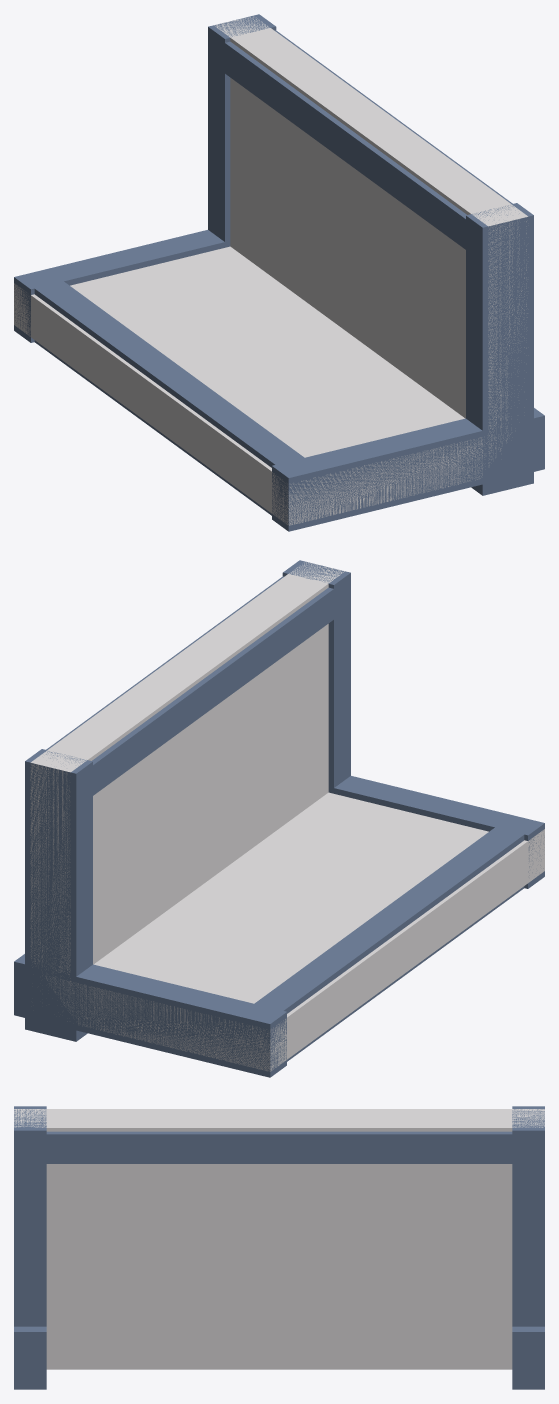
File: 03_wall_outer_corner.glb
3 renders of one model, top to bottom at view 1: azimuth 30°, elevation 25°; view 2: azimuth 150°, elevation 25°; view 3: azimuth 270°, elevation 25°, orthographic. The views are drawn at different scales.
Visible parts, largest first — view 1: part_1, part_2, part_3, part_4, part_8, part_7, part_6, part_5; view 2: part_2, part_1, part_5, part_6, part_8, part_7, part_4, part_3; view 3: part_2, part_8, part_6, part_4, part_3, part_5, part_1.
Part boxes in pixels (<box>): part_1: <box>14,246,510,525</box>; part_2: <box>214,16,528,463</box>; part_3: <box>272,408,544,531</box>; part_4: <box>466,203,533,495</box>; part_8: <box>208,30,533,261</box>; part_7: <box>18,269,319,515</box>; part_6: <box>208,14,276,246</box>; part_5: <box>14,230,230,342</box>; part_2: <box>30,562,344,980</box>; part_1: <box>45,792,544,1071</box>; part_5: <box>14,954,286,1077</box>; part_6: <box>25,749,92,1041</box>; part_8: <box>28,576,350,797</box>; part_7: <box>239,815,539,1061</box>; part_4: <box>282,560,350,793</box>; part_3: <box>328,776,544,888</box>; part_2: <box>14,1109,544,1368</box>; part_8: <box>15,1131,544,1163</box>; part_6: <box>512,1106,544,1389</box>; part_4: <box>14,1106,46,1389</box>; part_3: <box>14,1326,46,1383</box>; part_5: <box>512,1326,544,1383</box>; part_1: <box>46,1368,512,1369</box>.
Size of the model in its own units: 1.4 by 1.4 by 2.6.
